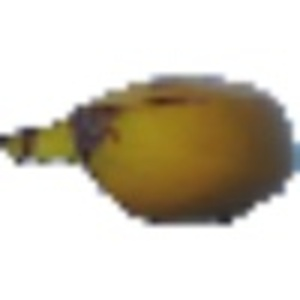banana: (2, 66, 297, 233)
